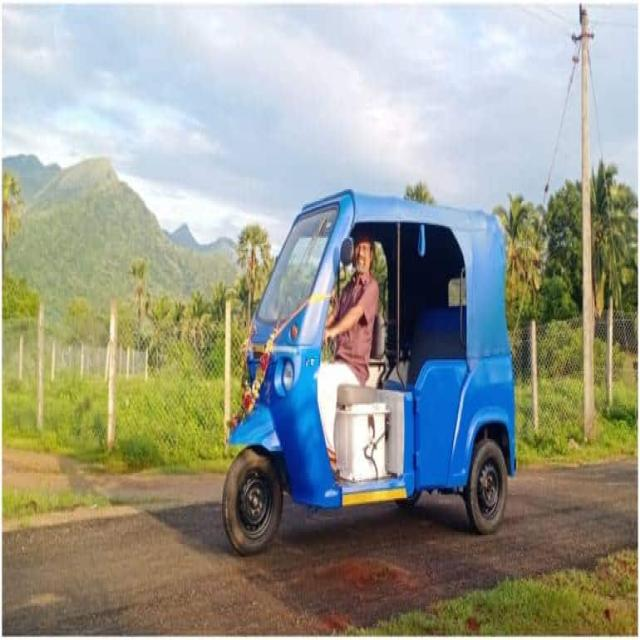autorickshaw: (222, 191, 516, 553)
